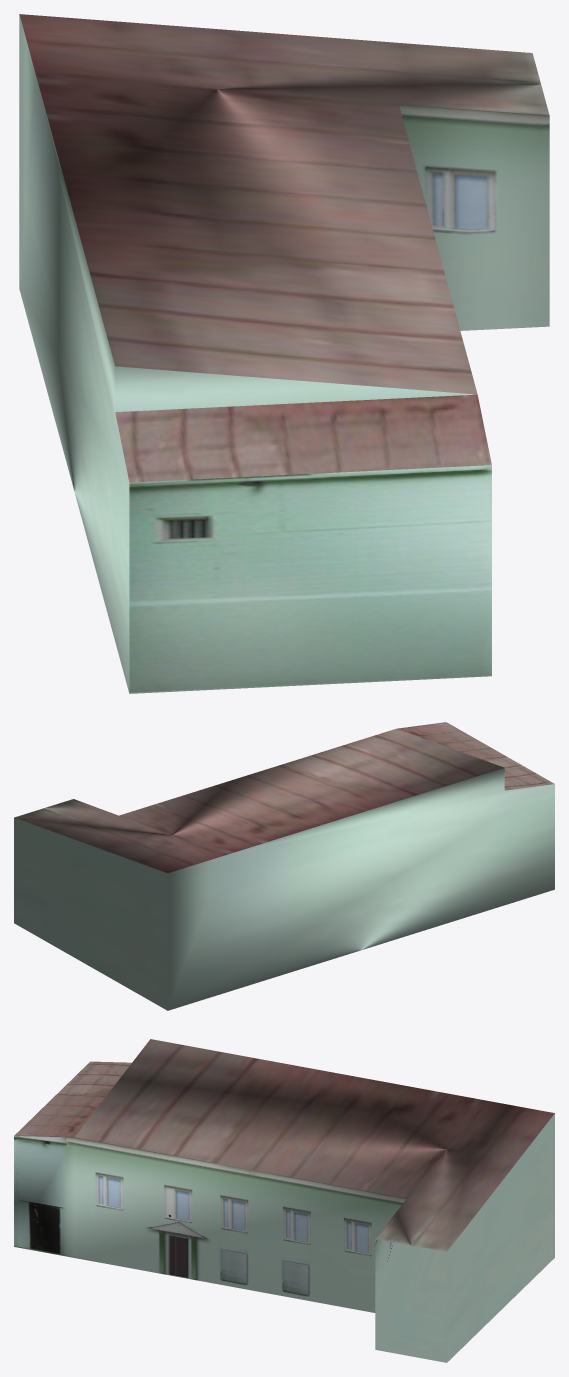
The model's file is lp-building21.fbx.
3 views of the same model, one above another, from view 1: azimuth 30°, elevation 25°; view 2: azimuth 150°, elevation 25°; view 3: azimuth 270°, elevation 25° (orthographic). The views are drawn at different scales.
Parts seen in each view (by area): view 1: 01houses.014; view 2: 01houses.014; view 3: 01houses.014.
Part boxes in pixels (box(x1,y1,x2,y2)): 01houses.014: box(19, 14, 549, 693); 01houses.014: box(14, 722, 554, 1010); 01houses.014: box(14, 1039, 554, 1362).
Bounding box in the file's own units: 667 × 236 × 801.
Materials: 1 (1 with a texture image).
